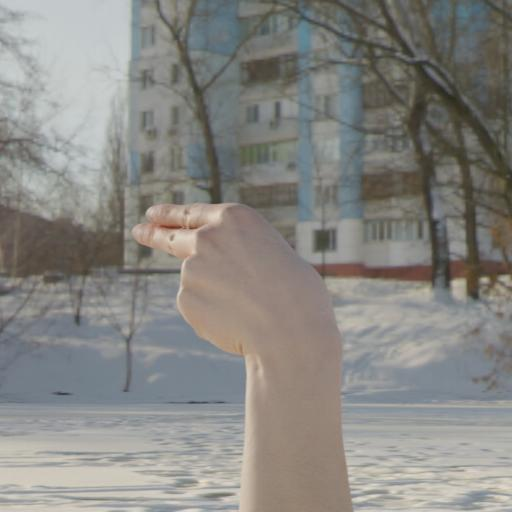H: (122, 199, 357, 382)
